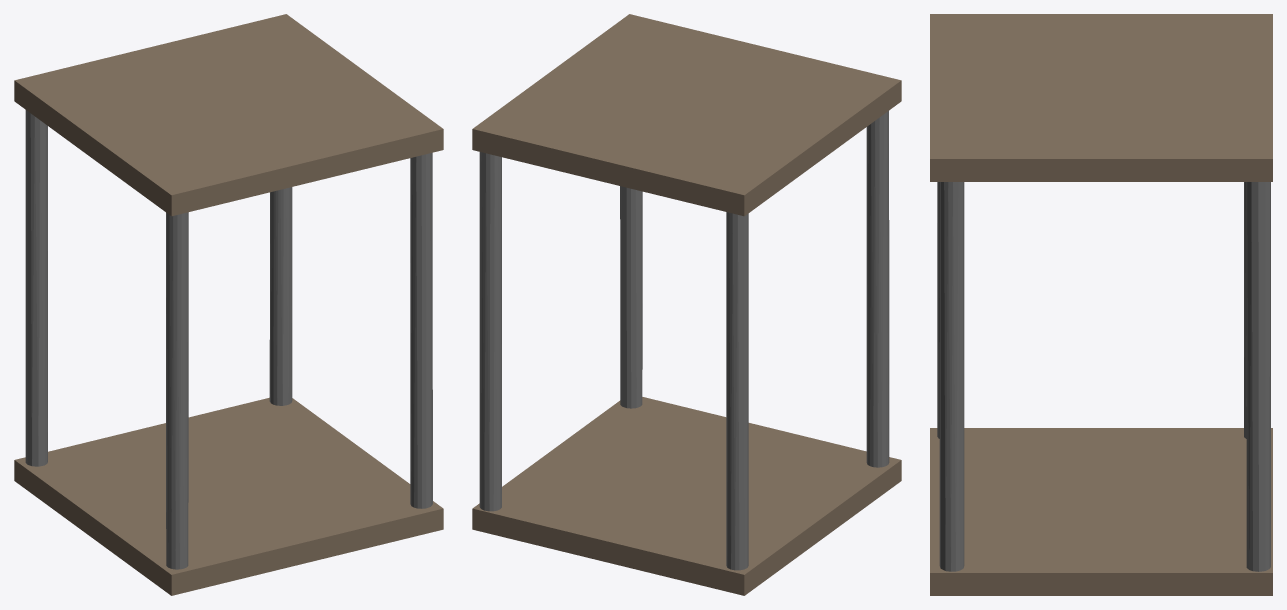
File: Old Basic Elevator.glb
3 renders of one model, left to right at view 1: azimuth 30°, elevation 25°; view 2: azimuth 150°, elevation 25°; view 3: azimuth 270°, elevation 25°, orthographic. The views are drawn at different scales.
Visible parts, largest first — view 1: Elevator; view 2: Elevator; view 3: Elevator.
Part boxes in pixels (x1,y1,x2,y2): Elevator: (14, 14, 443, 595); Elevator: (472, 14, 901, 595); Elevator: (930, 14, 1272, 595).
Size of the model in its own units: 1.83 by 2.57 by 1.83.
